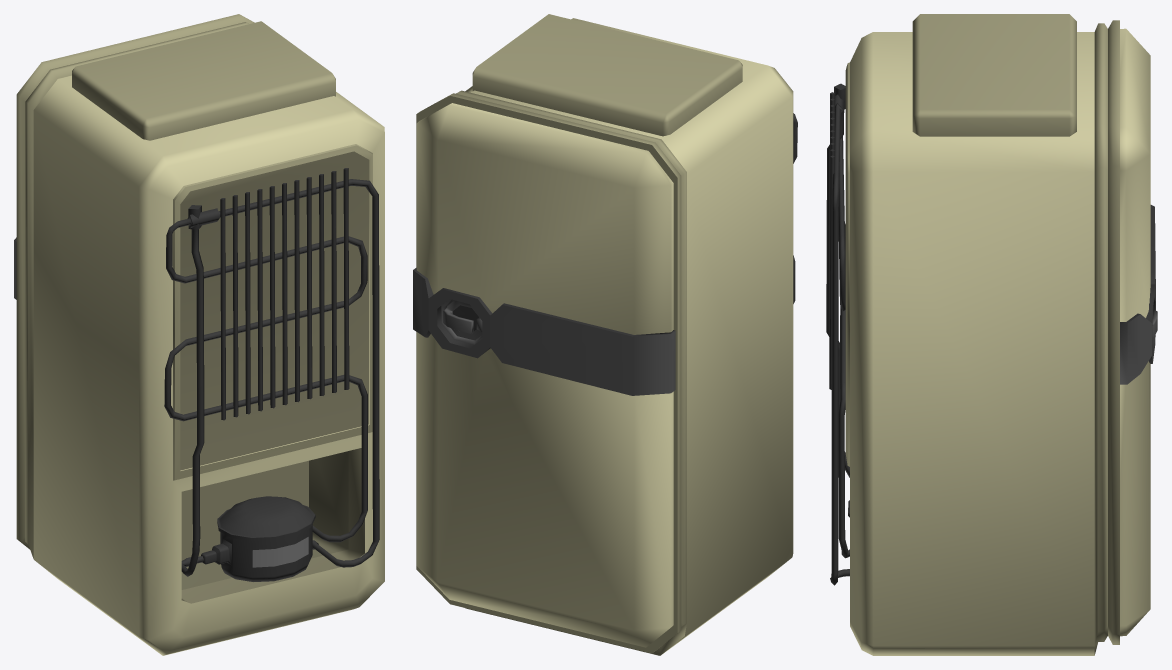
File: Fridge.fbx
3 views of the same model, side by side, from view 1: azimuth 30°, elevation 25°; view 2: azimuth 150°, elevation 25°; view 3: azimuth 270°, elevation 25° (orthographic). The views are drawn at different scales.
Visible parts, largest first — view 1: Fridge, FridgeDoor; view 2: FridgeDoor, Fridge; view 3: Fridge, FridgeDoor.
Boxes of the visible parts, x1,y1,x2,y2 form: Fridge: (25,21,384,655); FridgeDoor: (14,14,254,549); FridgeDoor: (413,93,681,653); Fridge: (456,14,797,655); Fridge: (826,14,1107,655); FridgeDoor: (1108,20,1157,644).
Bounding box in the file's own units: 0.9161 × 1.78 × 0.9775.
